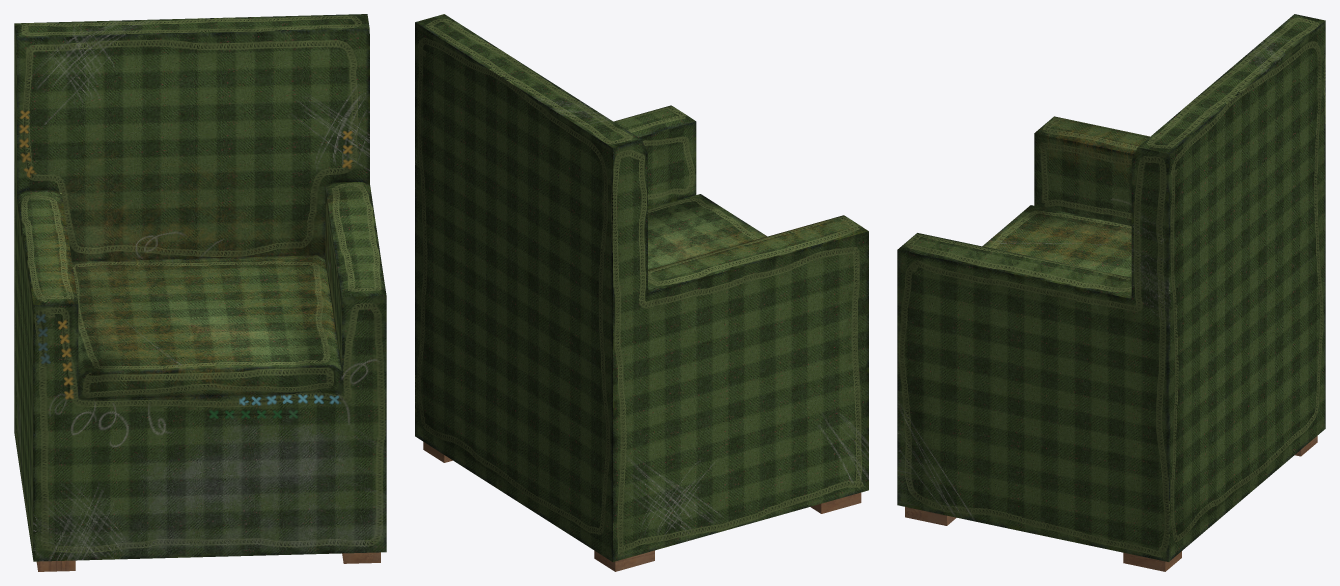
The model's file is Sillon_Fin.fbx.
The picture shows the model from 3 angles, left to right: view 1: azimuth 30°, elevation 25°; view 2: azimuth 150°, elevation 25°; view 3: azimuth 270°, elevation 25°; orthographic projection.
Visible parts, largest first — view 1: Sillon; view 2: Sillon; view 3: Sillon.
Boxes of the visible parts, left/top/right/bottom form: Sillon: left=14, top=14, right=386, bottom=571; Sillon: left=415, top=14, right=868, bottom=571; Sillon: left=897, top=14, right=1325, bottom=571.
Bounding box in the file's own units: 29.09 × 30.01 × 27.65.
2 materials, 2 textured.
